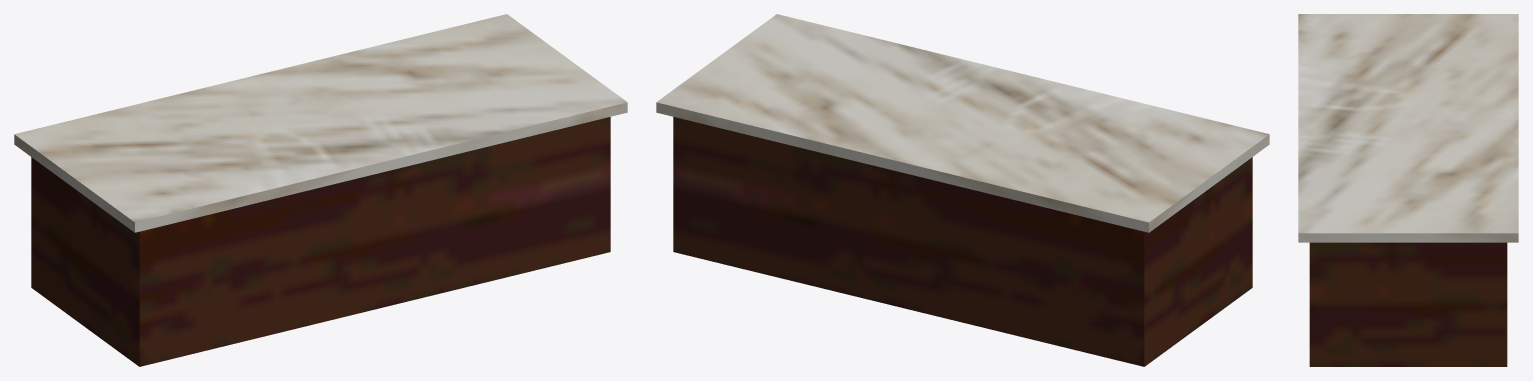
File: KitchenCounter.fbx
3 renders of one model, left to right at view 1: azimuth 30°, elevation 25°; view 2: azimuth 150°, elevation 25°; view 3: azimuth 270°, elevation 25°, orthographic. The views are drawn at different scales.
Visible parts, largest first — view 1: KitchenCounter; view 2: KitchenCounter; view 3: KitchenCounter.
Part boxes in pixels (x1,y1,x2,y2): KitchenCounter: (14, 14, 627, 366); KitchenCounter: (656, 14, 1269, 366); KitchenCounter: (1298, 14, 1518, 366).
Bounding box in the file's own units: 340 × 100 × 144.
